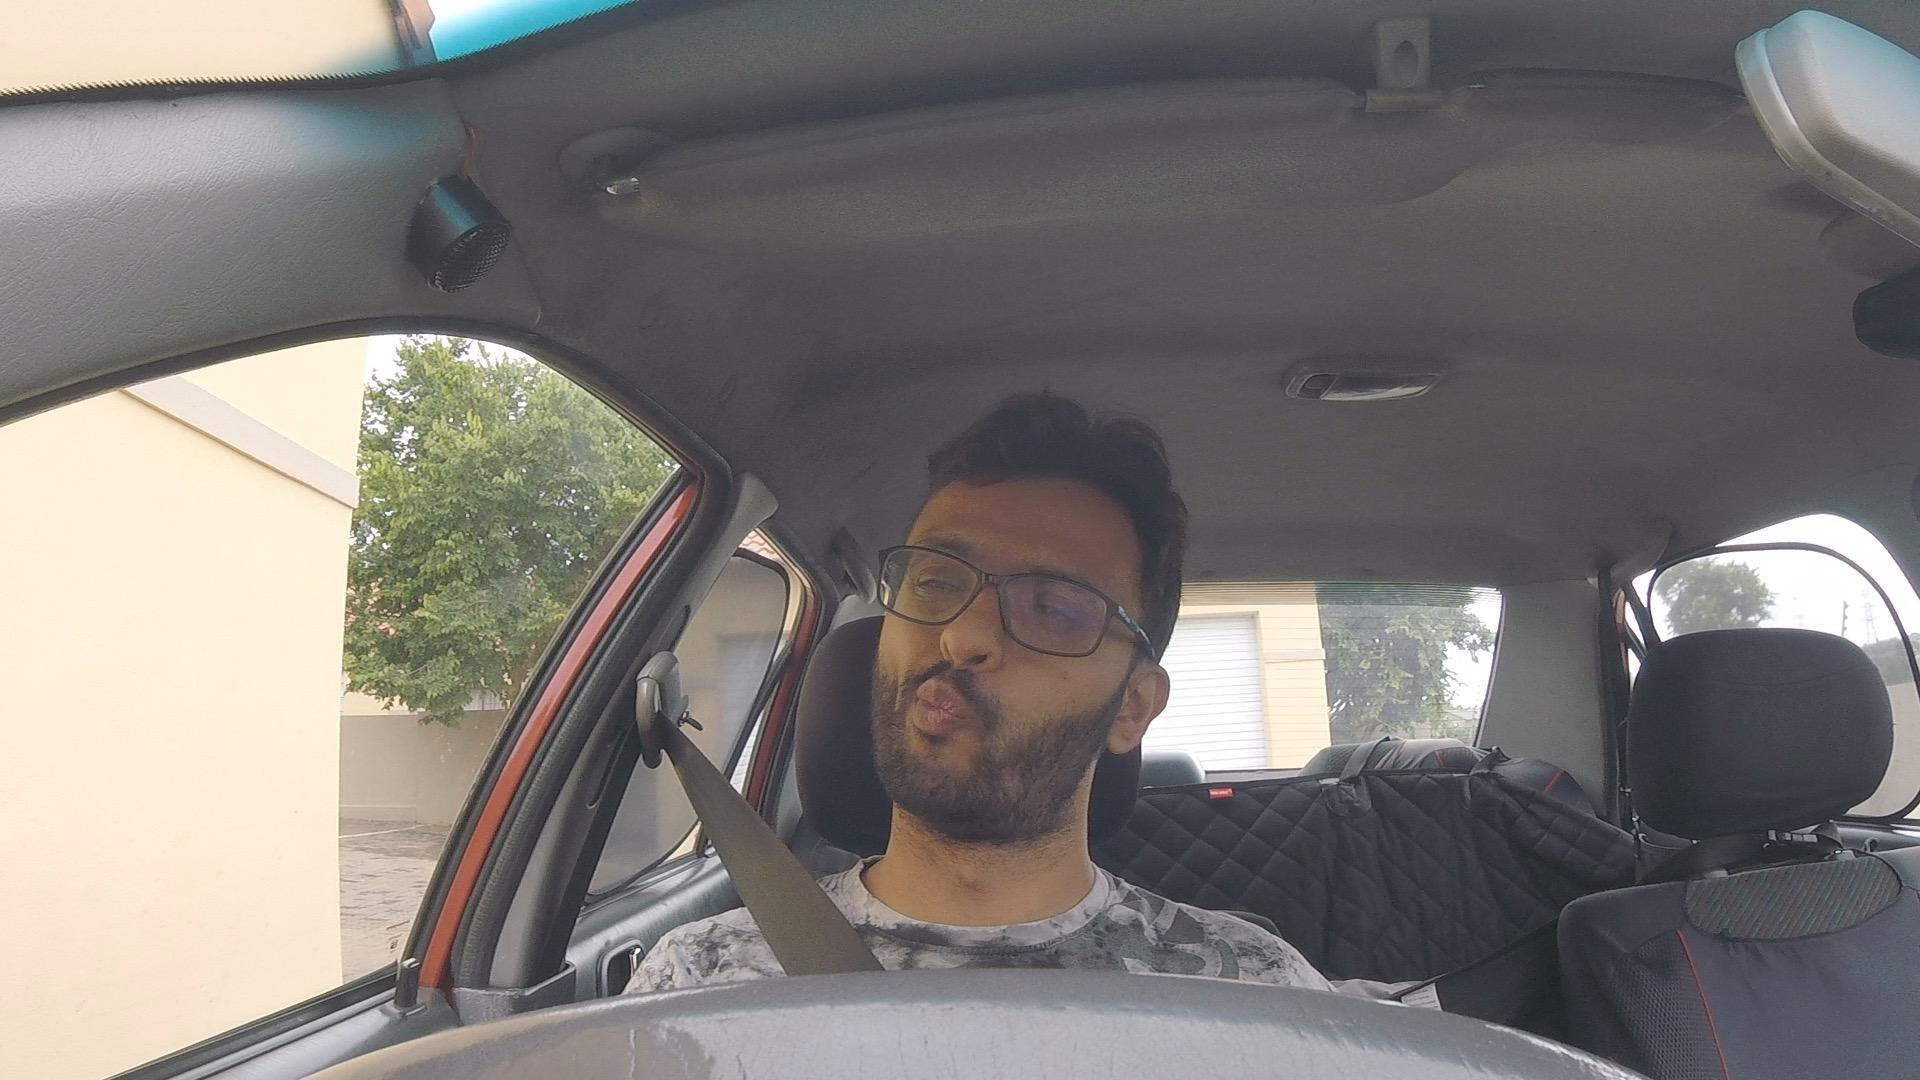SafeDriving: (856, 392, 1188, 857)
